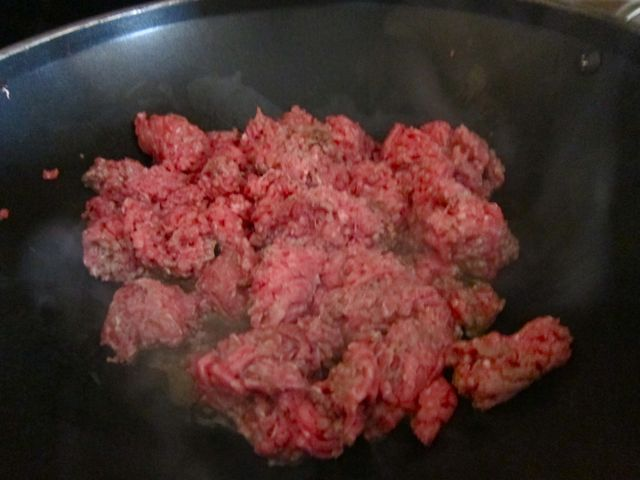ground_beef: (95, 117, 520, 419)
